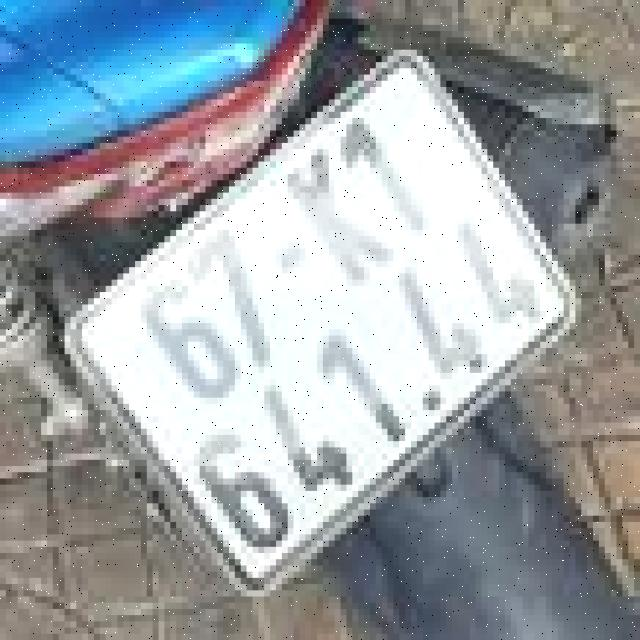1: (325, 97, 451, 258), (303, 300, 429, 459)
4: (241, 355, 375, 521), (381, 238, 506, 398), (439, 196, 556, 351)
6: (115, 256, 254, 420), (170, 417, 303, 565)
7: (175, 216, 294, 376)
K: (261, 130, 397, 303)
